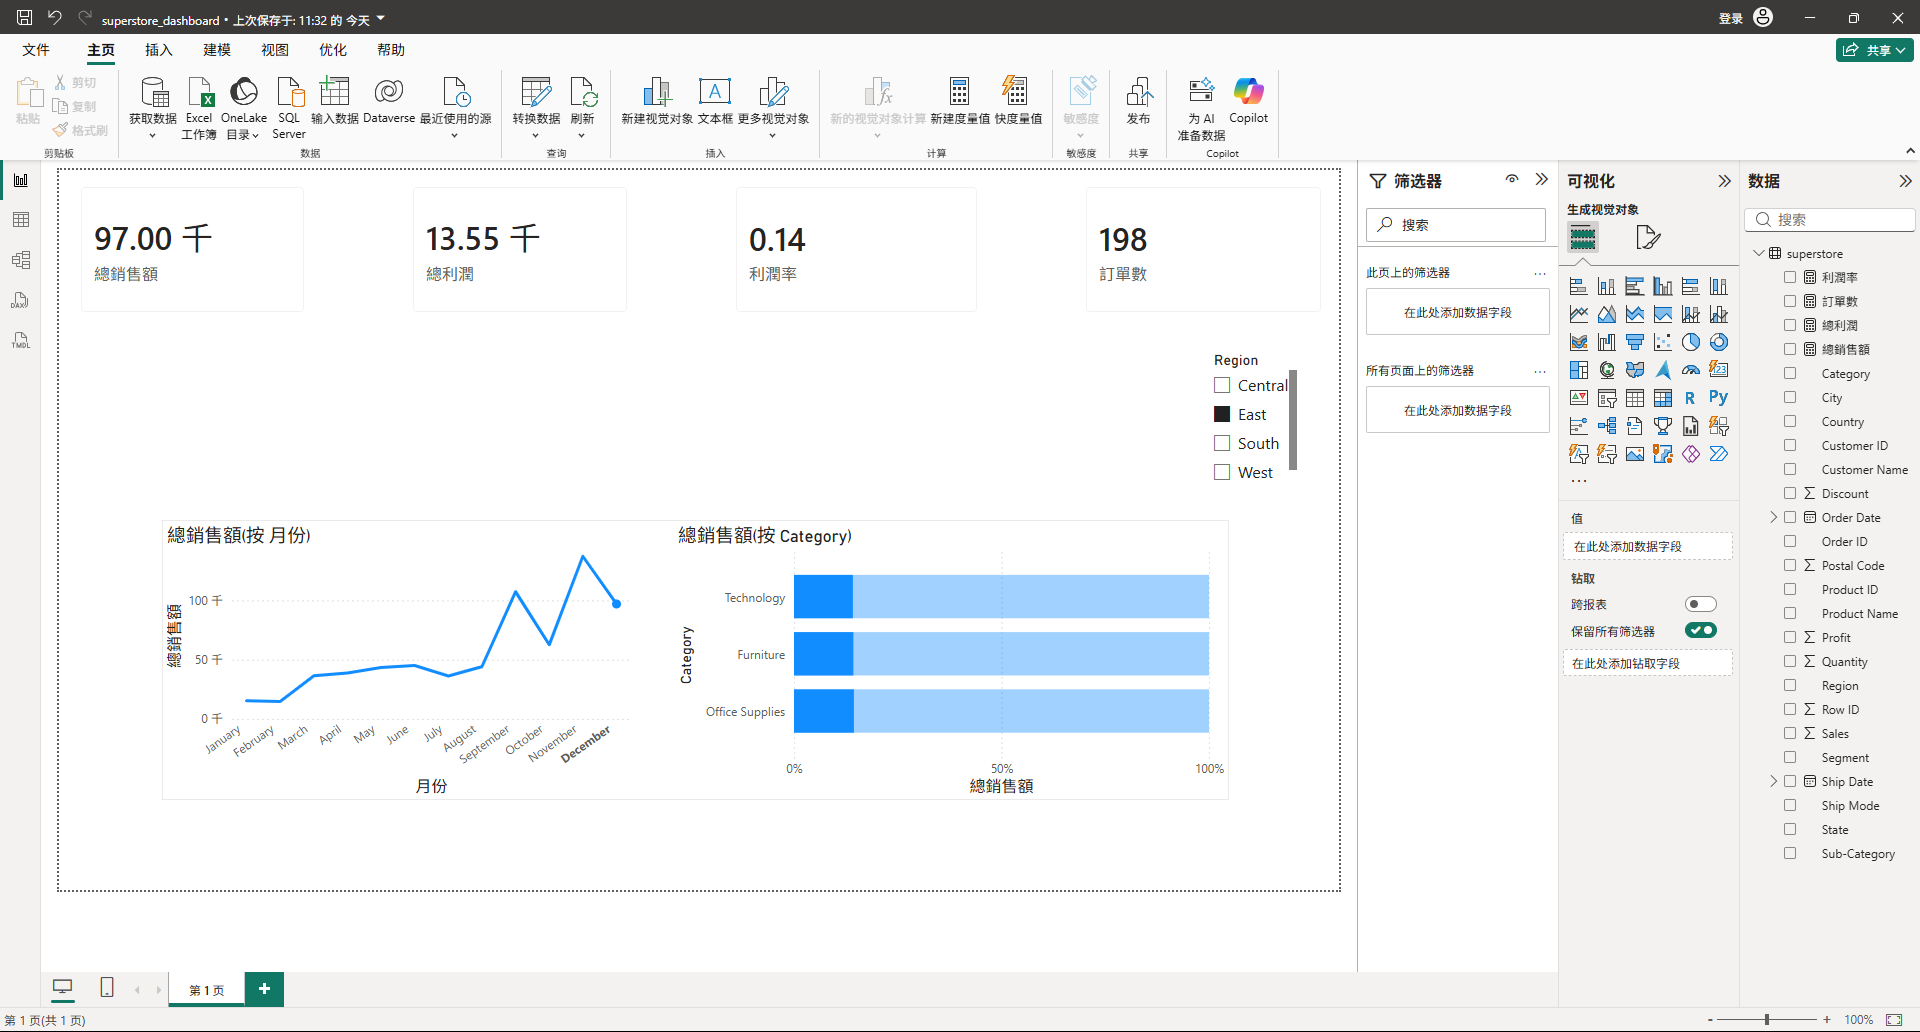

The page's visual inventory and layout, read from the dashboard file:
{"tool":"powerbi","page":{"name":"第 1 页","canvas":[1280,720],"ordinal":0},"visuals":[{"type":"cardVisual","fields":{"Data":["superstore.總銷售額"]},"box":[5,0,257,159],"z":0,"group":"g1"},{"type":"slicer","fields":{"Values":["superstore.Region"]},"box":[1142,177,101,140],"z":0},{"type":"lineChart","fields":{"Category":["superstore.Order Date.变体.日期层次结构.年","superstore.Order Date.变体.日期层次结构.季度","superstore.Order Date.变体.日期层次结构.月份","superstore.Order Date.变体.日期层次结构.日"],"Y":["superstore.總銷售額"]},"box":[103,350,473,280],"z":0,"group":"g2"},{"type":"group","id":"g1","title":"组 1","box":[5,0,1274,159],"z":1000},{"type":"cardVisual","fields":{"Data":["superstore.總利潤"]},"box":[337.2,0,248,159],"z":1000,"group":"g1"},{"type":"hundredPercentStackedBarChart","fields":{"Category":["superstore.Category"],"Y":["superstore.總銷售額"]},"box":[614,350,556,280],"z":1000,"group":"g2"},{"type":"cardVisual","fields":{"Data":["superstore.訂單數"]},"box":[1010,0,269,159],"z":2000,"group":"g1"},{"type":"group","id":"g2","title":"组 2","box":[103,350,1067,280],"z":2000},{"type":"cardVisual","fields":{"Data":["superstore.利潤率"]},"box":[660.4,0,274.4,159],"z":3000,"group":"g1"}]}

Visuals, with their boxes in screenshot pixels (x1, y1, x2, y2):
cardVisual - superstore.總銷售額: bbox(0, 25, 280, 249)
slicer - superstore.Region: bbox(1521, 275, 1664, 472)
lineChart - superstore.Order Date.变体.日期层次结构.年 x superstore.Order Date.变体.日期层次结构.季度: bbox(55, 519, 723, 914)
"组 1" group: bbox(0, 25, 1714, 249)
cardVisual - superstore.總利潤: bbox(386, 25, 736, 249)
hundredPercentStackedBarChart - superstore.Category x superstore.總銷售額: bbox(776, 519, 1561, 914)
cardVisual - superstore.訂單數: bbox(1335, 25, 1714, 249)
"组 2" group: bbox(55, 519, 1561, 914)
cardVisual - superstore.利潤率: bbox(842, 25, 1229, 249)
